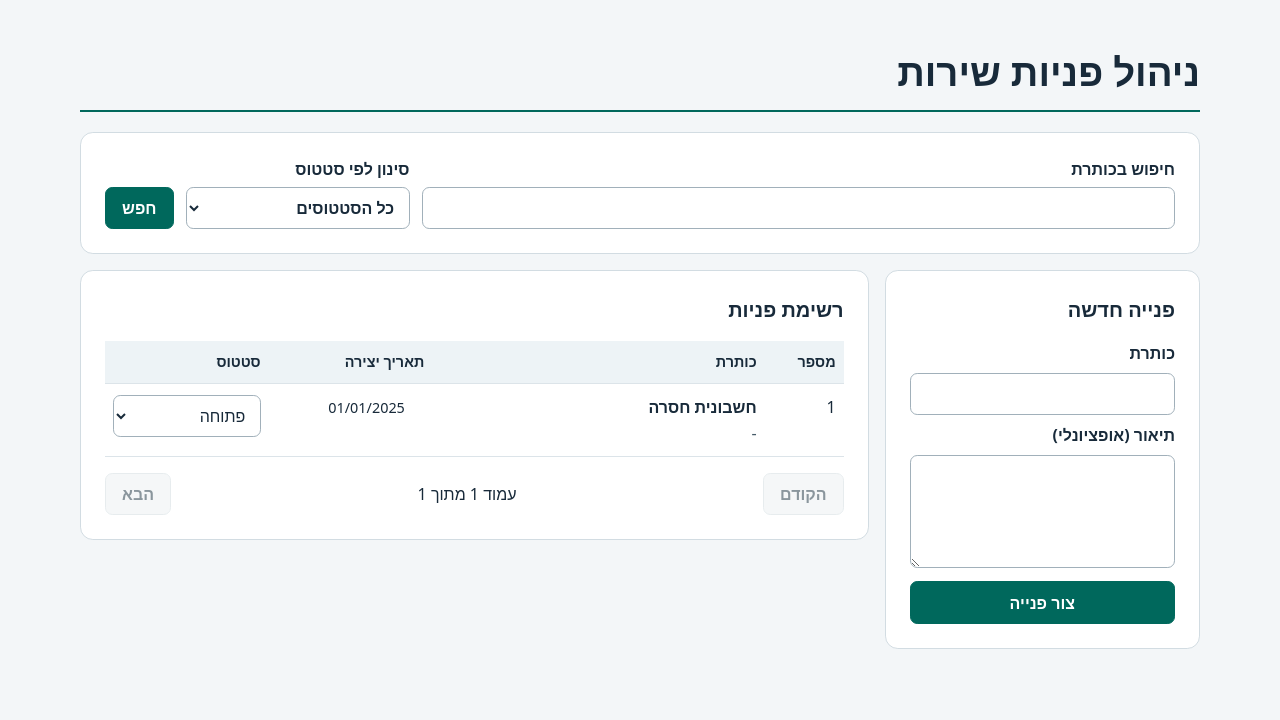
it: shows field errors and blocks invalid creation
The image size is (1280, 720).
Type " a " into the field labelled "כותרת" at coordinates (1042, 394), box 910,373 -> 1175,416
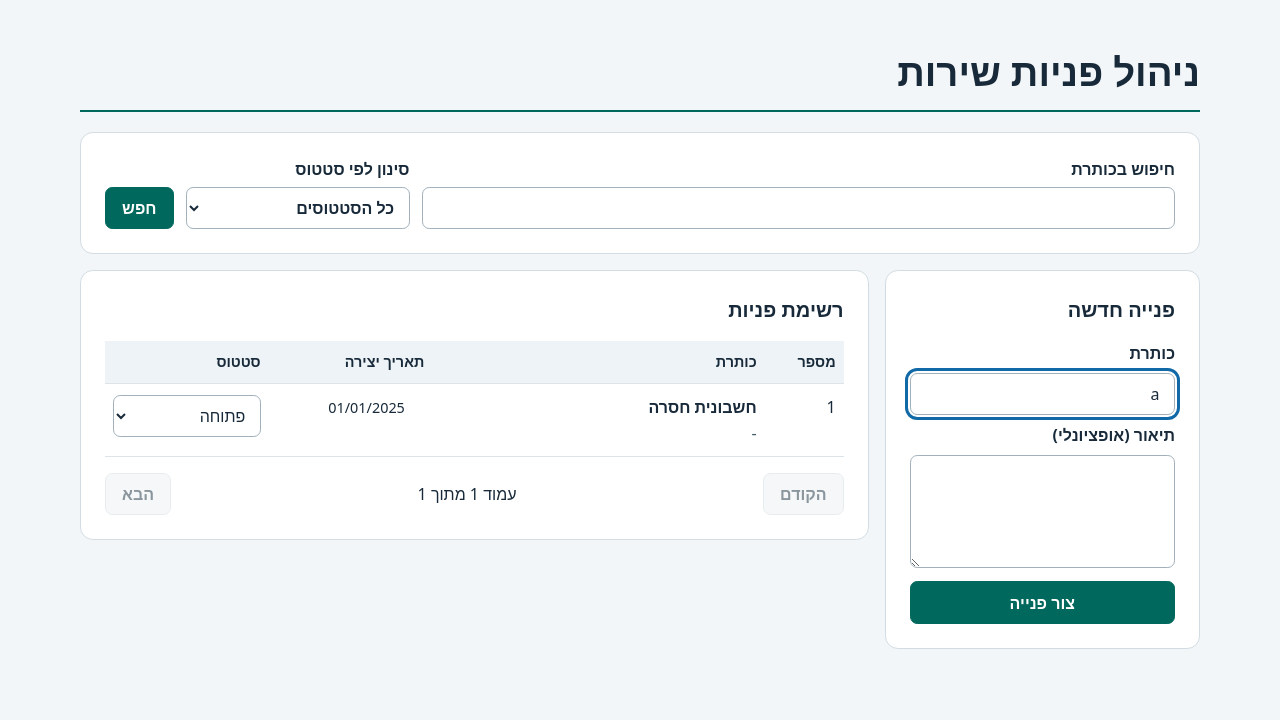
Click the button "צור פנייה" at coordinates (1042, 603), box 910,581 -> 1175,624
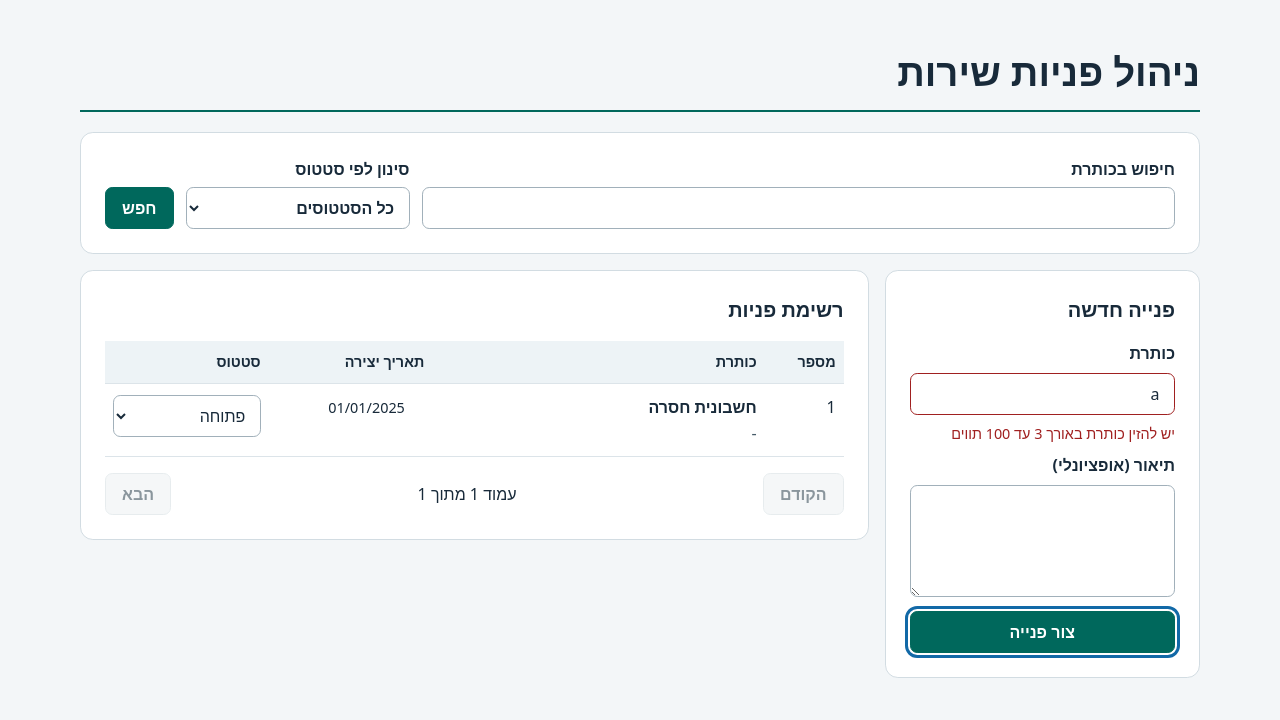
expect the message shows "3 עד 100": met, box 951,424 -> 1175,444
